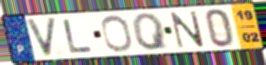0: (204, 7, 236, 48)
L: (61, 18, 95, 55)
N: (169, 10, 206, 50)
O: (99, 14, 135, 53)
Q: (130, 11, 171, 52)
V: (24, 16, 58, 59)
